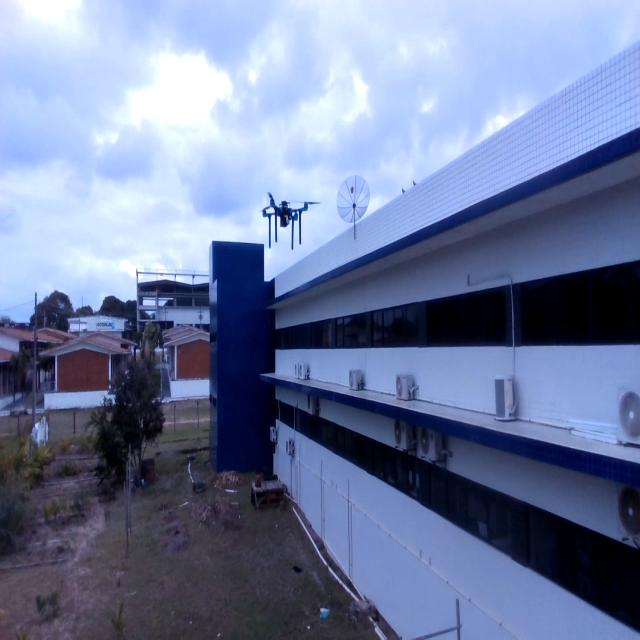-uav-: (248, 174, 327, 270)
